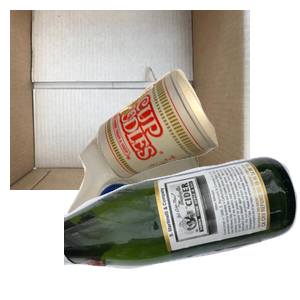cardboard: (10, 10, 250, 190)
glass: (64, 154, 300, 300)
plastic: (65, 123, 257, 300)
trash: (95, 67, 300, 238)
